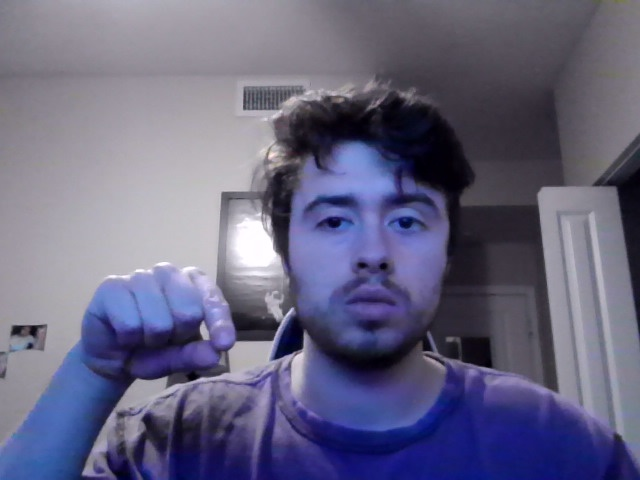q: (78, 260, 236, 395)
